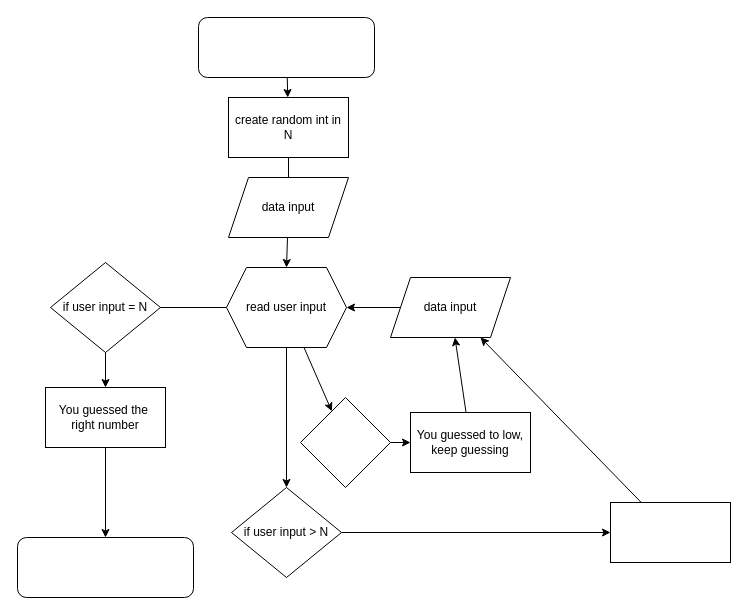
Some shapes in this 748 by 615 pixel diagram are drawn without their labels. The box of each missing label's shape, as (x1, y1, x2, y2) in pixels:
End: (16, 536, 194, 598)
if user input < N: (300, 396, 390, 488)
Start: (198, 16, 374, 78)
You guessed to high, keep guessing: (610, 502, 730, 562)
